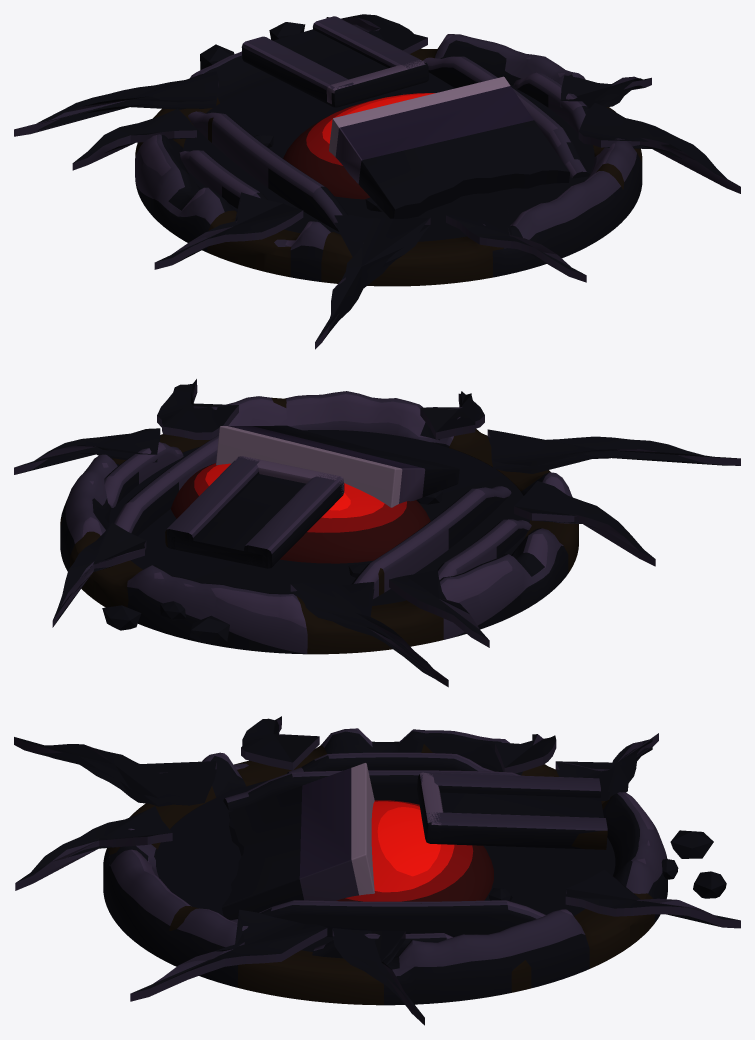
File: eye_hatch_wreck.glb
3 renders of one model, top to bottom at view 1: azimuth 30°, elevation 25°; view 2: azimuth 150°, elevation 25°; view 3: azimuth 270°, elevation 25°, orthographic. The views are drawn at different scales.
Visible parts, largest first — view 1: eye_hatch_wreck; view 2: eye_hatch_wreck; view 3: eye_hatch_wreck.
Part boxes in pixels (x1,y1,x2,y2): eye_hatch_wreck: (14,14,740,349); eye_hatch_wreck: (14,379,740,687); eye_hatch_wreck: (14,716,740,1025).
Bounding box in the file's own units: 22.37 × 3.31 × 22.78.
